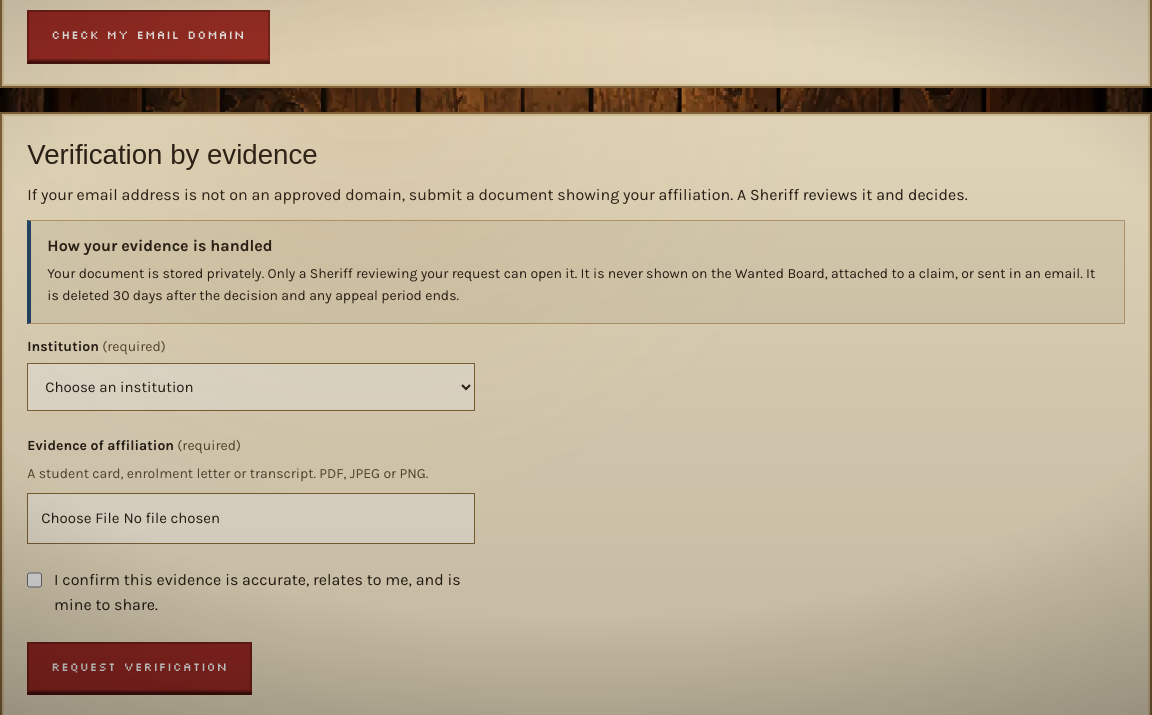
Test: refuses an incomplete request and links each problem to its field
(page scrolled)
Click the button "Request verification".
click(140, 667)  # box [27,642,252,692]
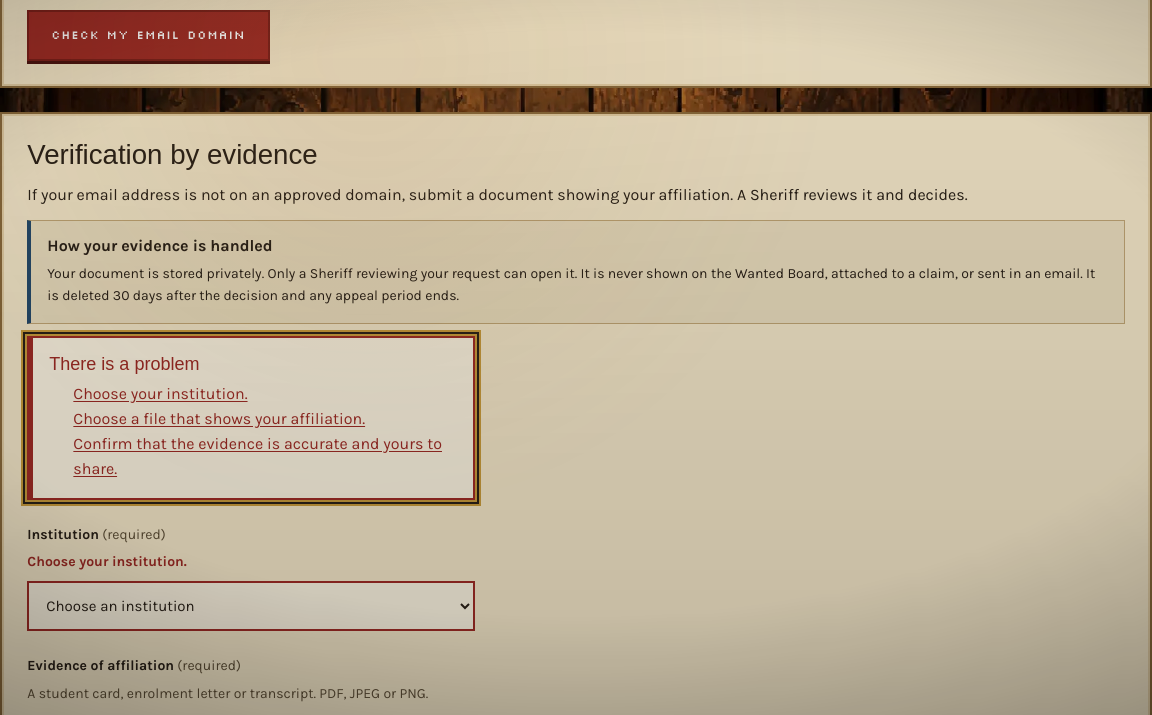
Check: the link "Choose your institution." is shown, box [73,384,248,403]
Check: the link "Choose a file that shows your affiliation." is shown, box [73,409,365,428]
Check: the link "Confirm that the evidence is accurate and yours to share." is shown, box [73,434,442,478]
